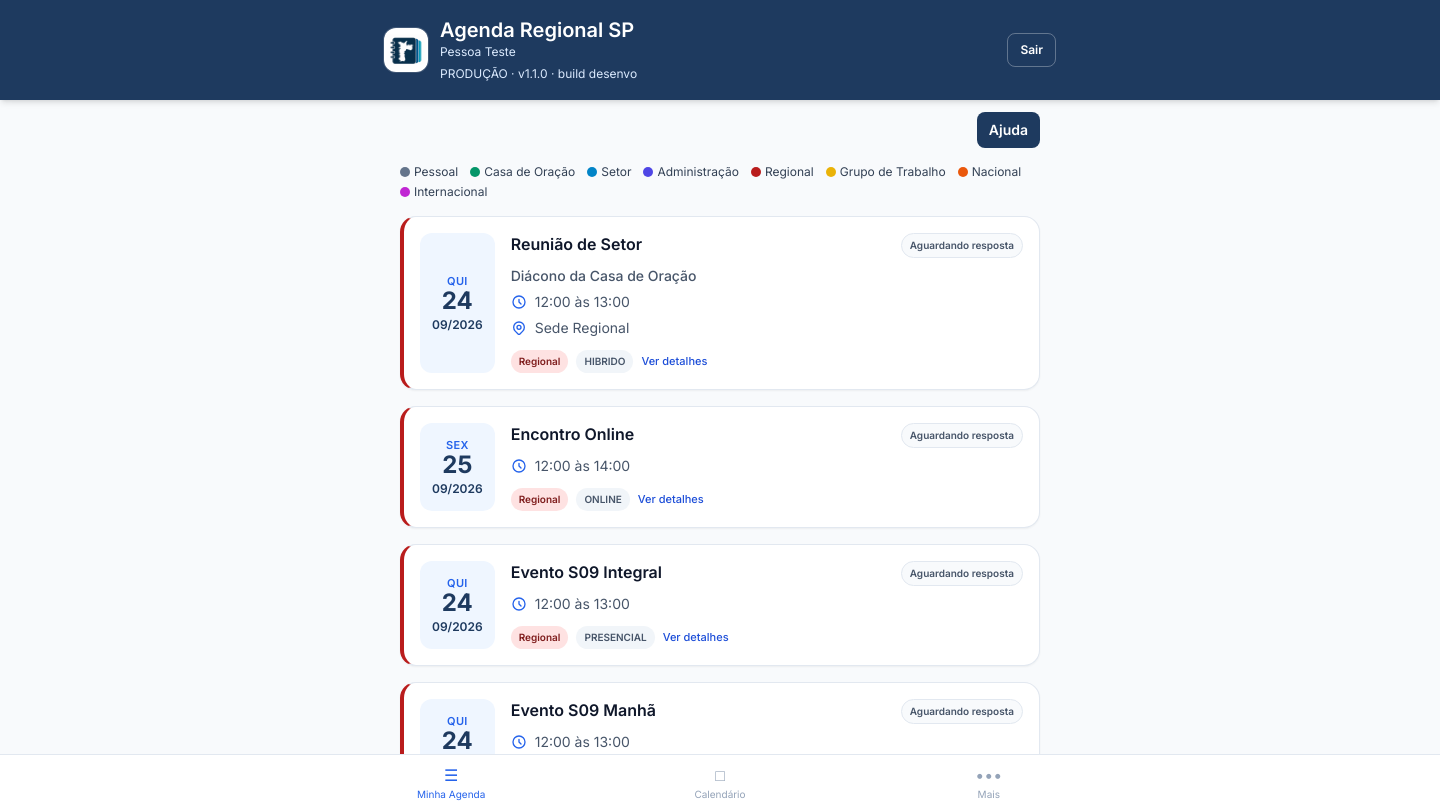
Test: S07 - Minha Agenda e Calendário › 4. Navega para Calendário e exibe grid mensal
The width and height of the screenshot is (1440, 810).
Click the text "Calendário". click: (720, 794)
box: 694,787 -> 746,802
(page scrolled)
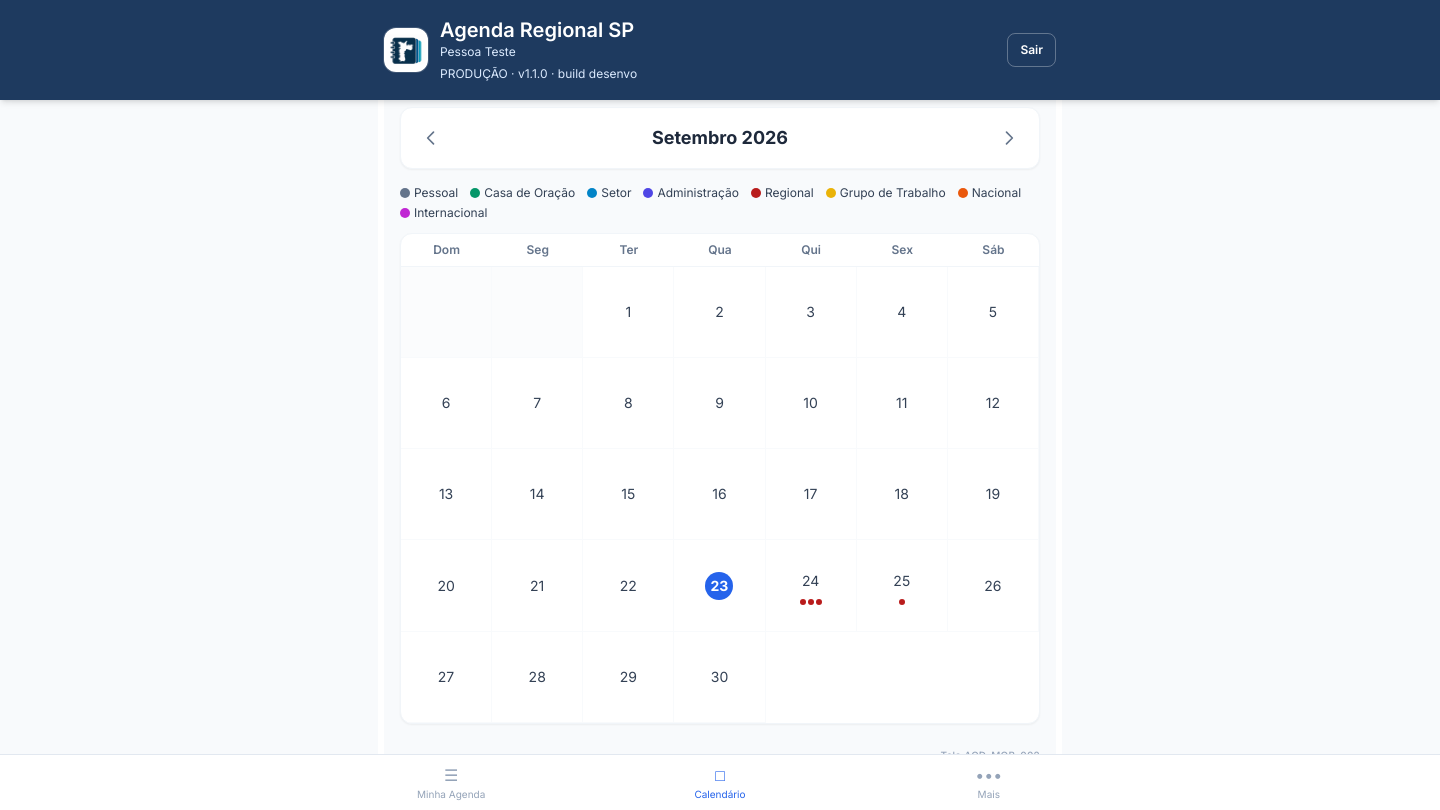
Now the text "Dom" is shown, box 433,242 -> 460,257
Now the text "Seg" is shown, box 526,242 -> 549,257
Now the heading "Setembro 2026" is shown, box 652,124 -> 788,152
